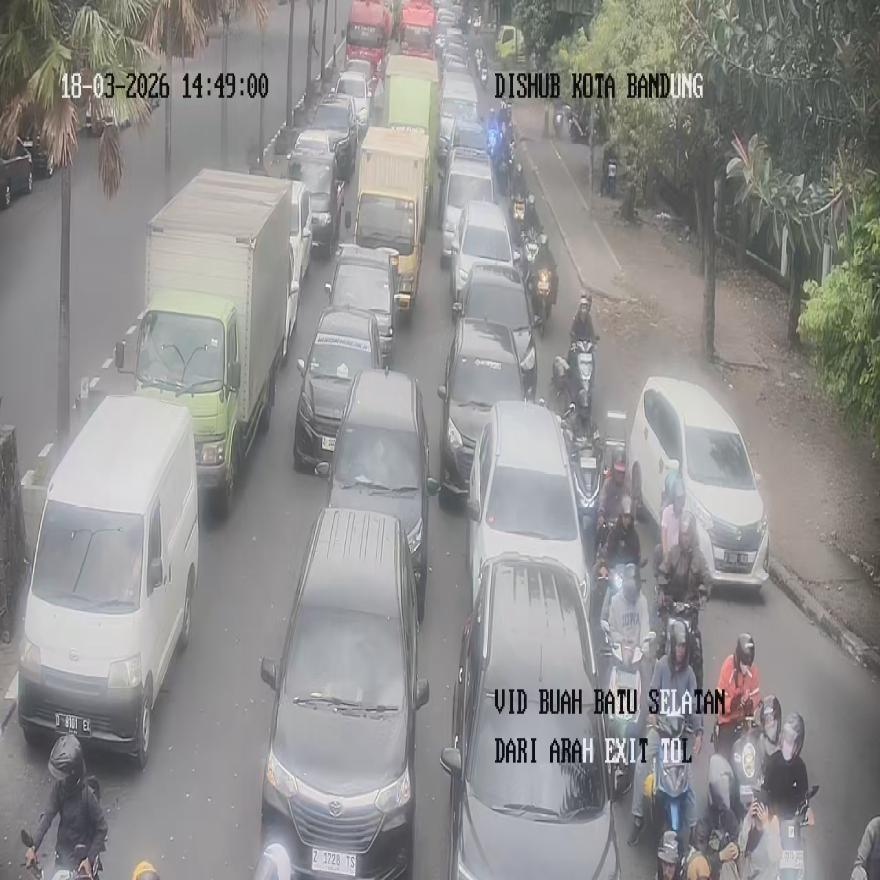Motor: (17, 394, 198, 768), (259, 507, 429, 878), (441, 554, 622, 878), (315, 366, 434, 624), (628, 374, 770, 587), (466, 398, 589, 608), (435, 314, 527, 496), (293, 304, 380, 473), (453, 259, 538, 400), (325, 243, 399, 369), (449, 200, 518, 310)
Truk: (21, 775, 106, 880), (601, 626, 652, 798), (649, 721, 700, 875), (658, 598, 704, 721), (564, 410, 601, 542), (21, 827, 102, 879), (776, 786, 819, 880), (522, 233, 557, 335), (568, 338, 596, 432), (849, 816, 880, 880)
